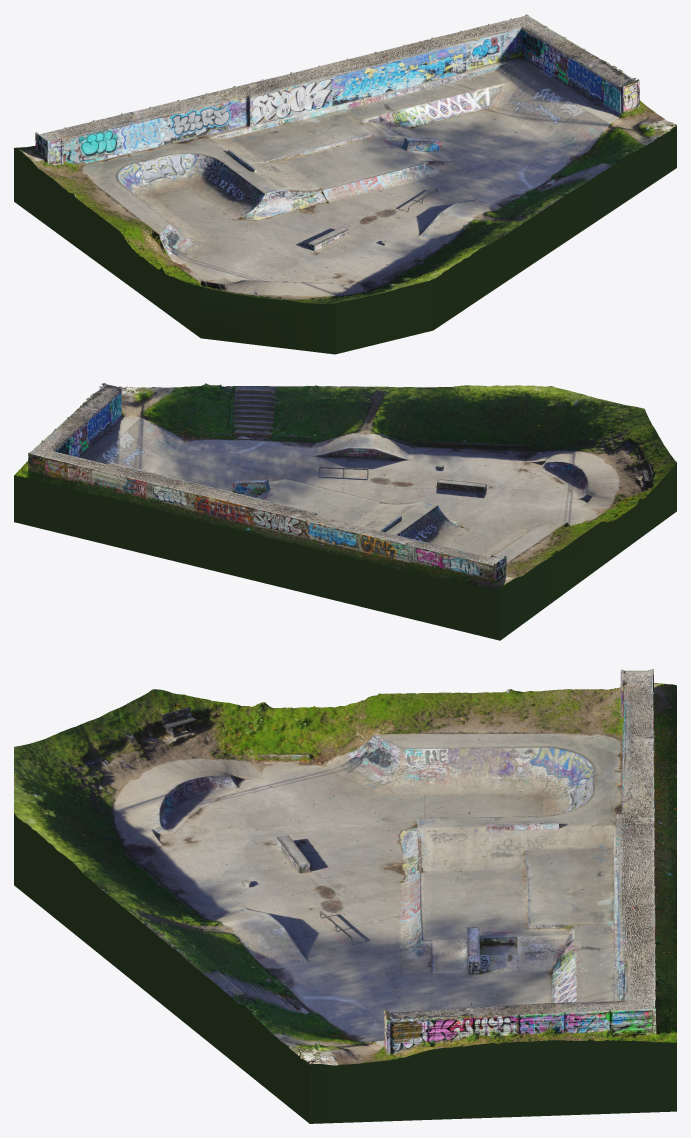
The model's file is gravesend.glb.
3 views of the same model, one above another, from view 1: azimuth 30°, elevation 25°; view 2: azimuth 150°, elevation 25°; view 3: azimuth 270°, elevation 25° (orthographic). The views are drawn at different scales.
Parts seen in each view (by area): view 1: GravesendSkatepark02:Mesh; view 2: GravesendSkatepark02:Mesh; view 3: GravesendSkatepark02:Mesh.
Part boxes in pixels (x1=…): GravesendSkatepark02:Mesh: x1=14, y1=14, x2=676, y2=354; GravesendSkatepark02:Mesh: x1=14, y1=383, x2=676, y2=640; GravesendSkatepark02:Mesh: x1=14, y1=669, x2=676, y2=1123.
Bounding box in the file's own units: 0.4424 × 0.0576 × 0.3414.
3 materials, 2 textured.
